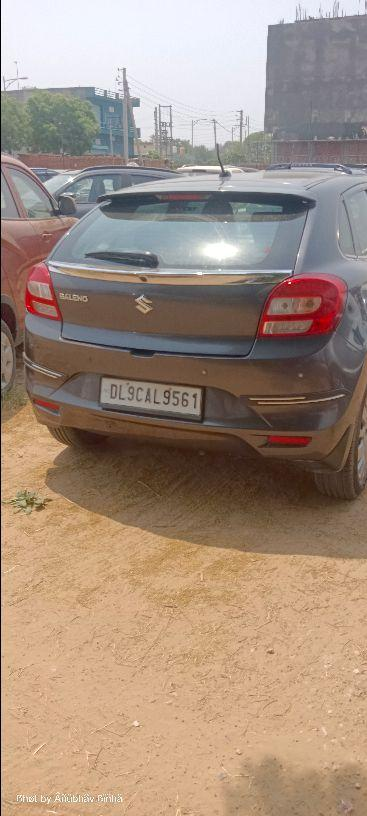license_plate: (98, 375, 204, 422)
